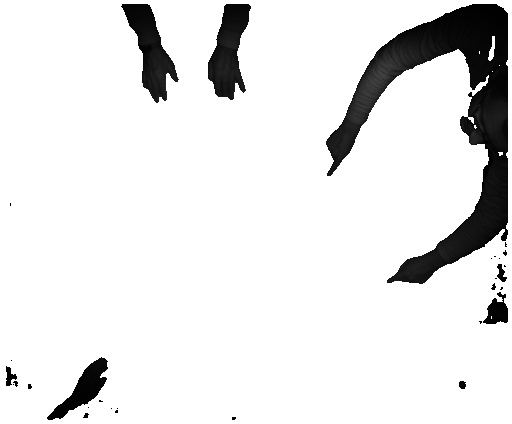hand: (136, 51, 182, 103), (72, 352, 111, 406), (208, 49, 247, 103), (320, 130, 357, 175), (384, 256, 437, 287)
